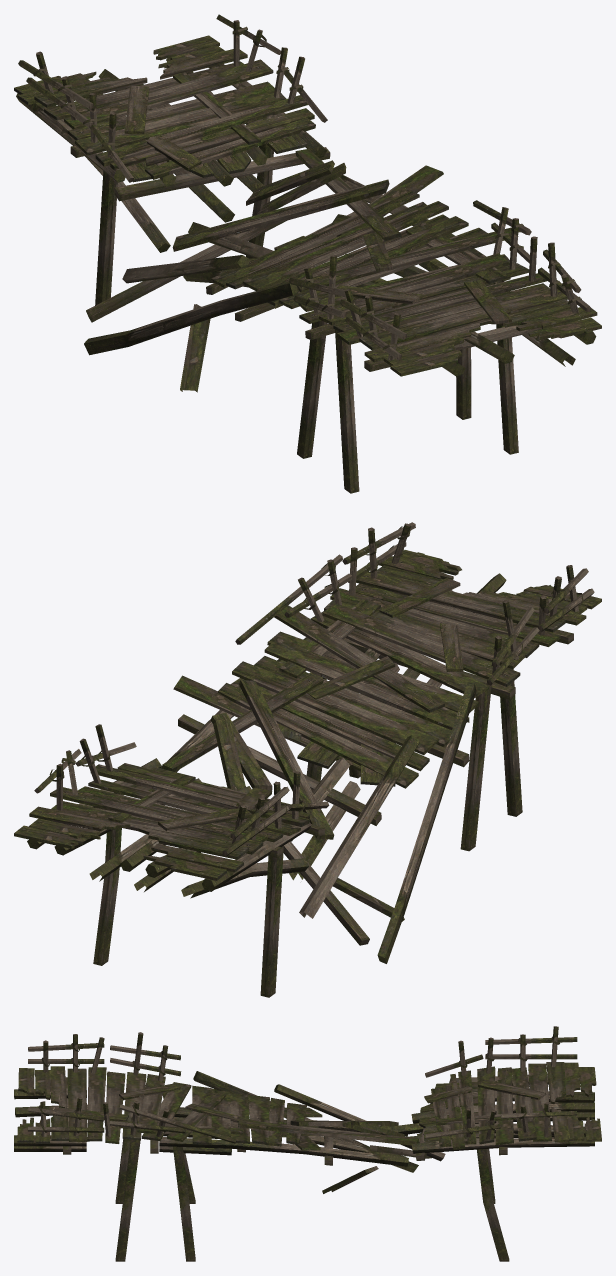
Rendered from 2014_Item_piao_1.FBX.
3 renders of one model, top to bottom at view 1: azimuth 30°, elevation 25°; view 2: azimuth 150°, elevation 25°; view 3: azimuth 270°, elevation 25°, orthographic. The views are drawn at different scales.
Visible parts, largest first — view 1: 2014_Item_piao_1; view 2: 2014_Item_piao_1; view 3: 2014_Item_piao_1.
Part boxes in pixels (x1,y1,x2,y2): 2014_Item_piao_1: (14, 14, 601, 493); 2014_Item_piao_1: (14, 522, 601, 997); 2014_Item_piao_1: (14, 1026, 601, 1261).
Bounding box in the file's own units: 1018 × 2467 × 782.
